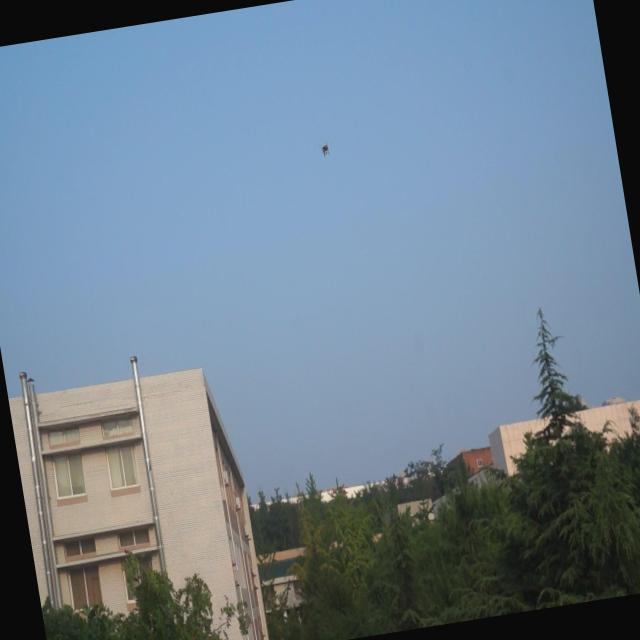drone: (319, 140, 333, 158)
